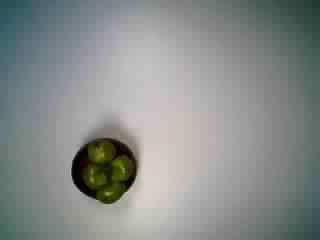mangosteen: (66, 132, 140, 204)
